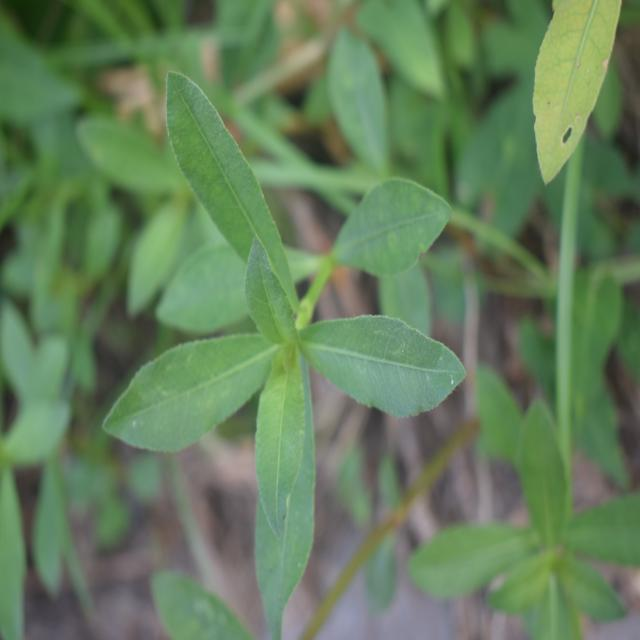Alligatorweed: (103, 71, 456, 613)
